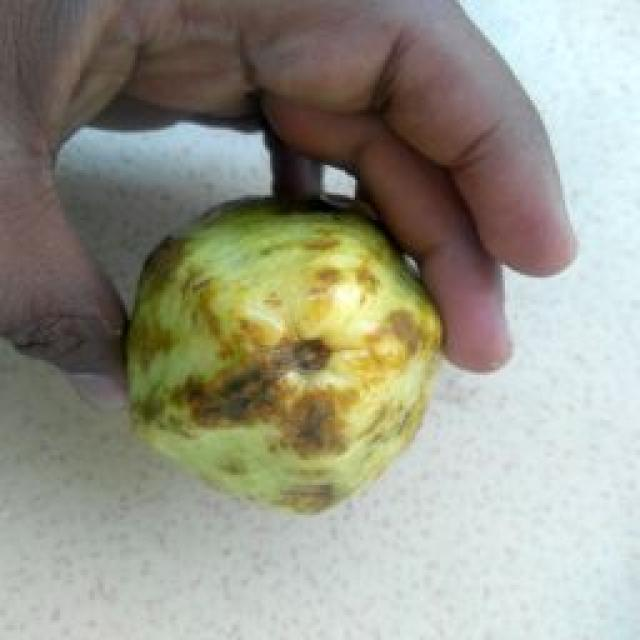Bad_Guava: (128, 204, 440, 512)
